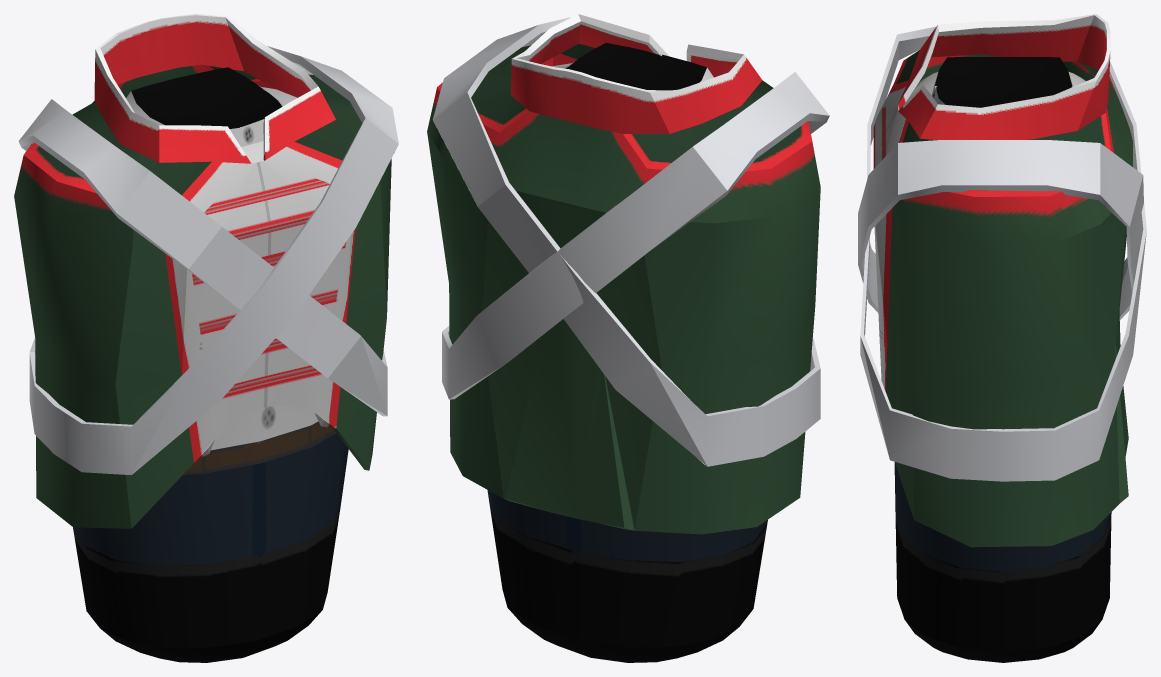
The model's file is playerBody.obj.
The picture shows the model from 3 angles, left to right: view 1: azimuth 30°, elevation 25°; view 2: azimuth 150°, elevation 25°; view 3: azimuth 270°, elevation 25°; orthographic projection. The views are drawn at different scales.
Visible parts, largest first — view 1: playerTorsoUpload; view 2: playerTorsoUpload; view 3: playerTorsoUpload.
Boxes of the visible parts, bbox=[...] form: playerTorsoUpload: bbox=[14, 14, 398, 662]; playerTorsoUpload: bbox=[427, 14, 829, 662]; playerTorsoUpload: bbox=[858, 14, 1146, 662].
Bounding box in the file's own units: 1.15 × 1.88 × 0.8187.
1 material, 1 textured.
